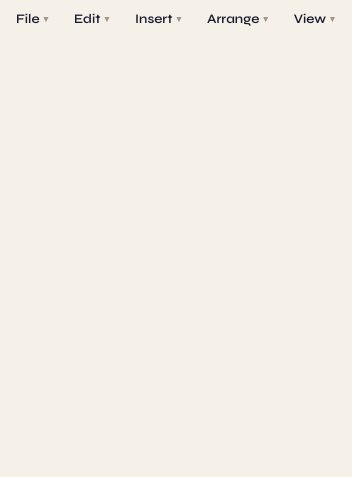
Test: MenuBar › lists Generate Document under File
Click the button with class "menubar-menu-item" showing "File ▾".
click(32, 19)  # box [16,11,48,27]
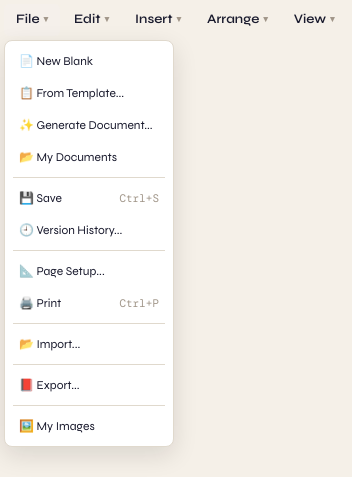
expect the menu with class "menubar-dropdown" shows "Generate Document": met, box [36,118,153,132]
